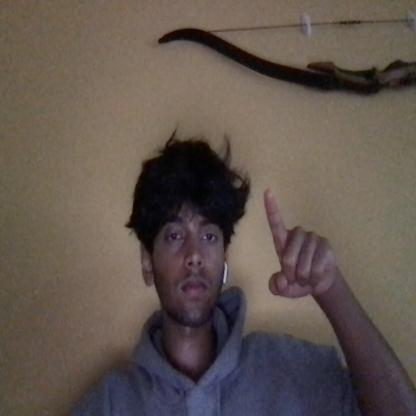finger_point: (249, 169, 288, 221)
